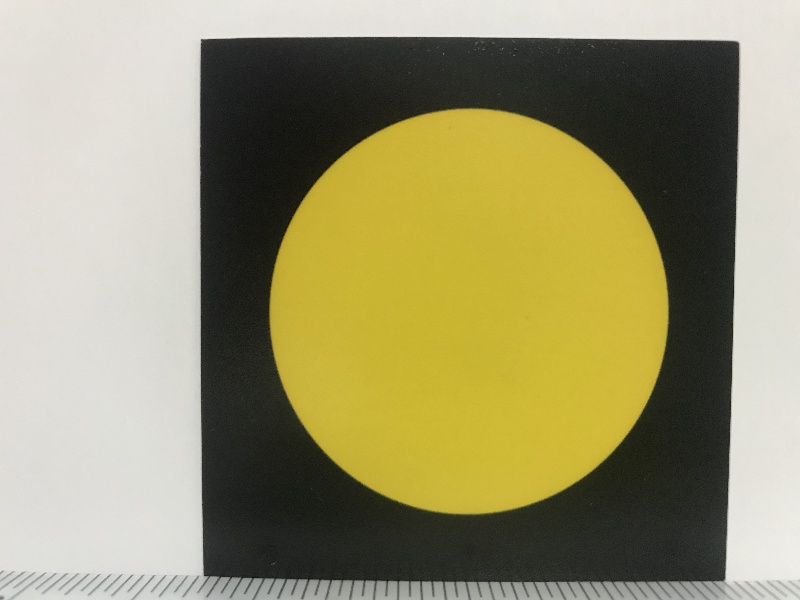Stop-5: (206, 43, 723, 576)
